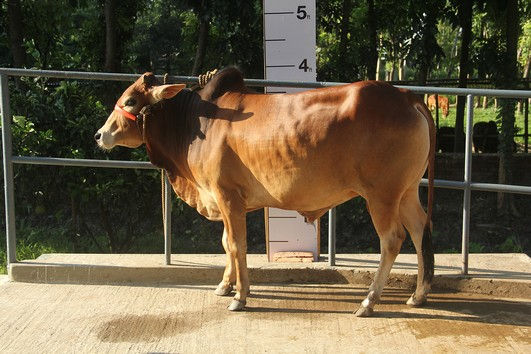cow: (89, 57, 448, 324)
